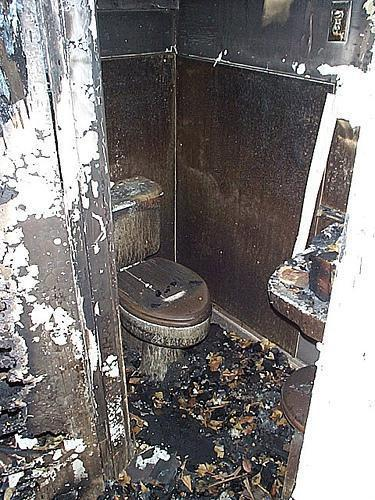Sanitario: (63, 175, 221, 388)
